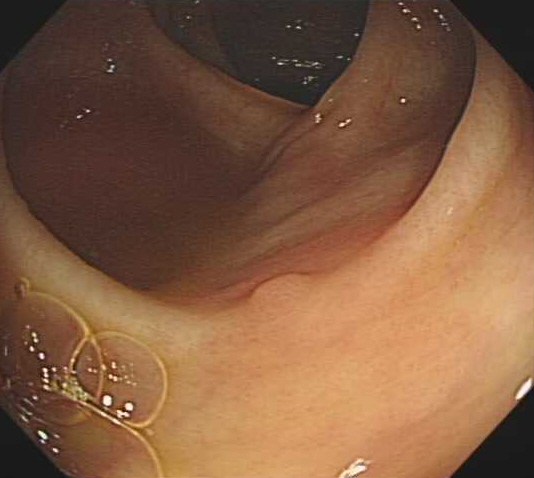others: (244, 268, 312, 309)
